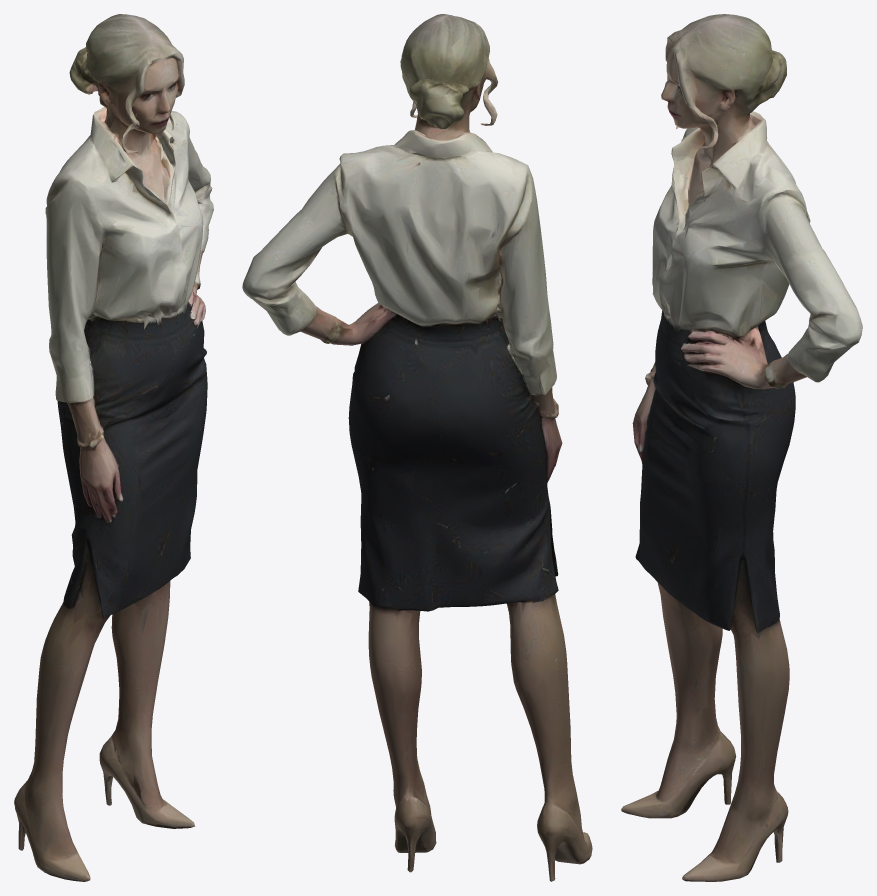
The model's file is female_ivory.glb.
3 renders of one model, left to right at view 1: azimuth 30°, elevation 25°; view 2: azimuth 150°, elevation 25°; view 3: azimuth 270°, elevation 25°, orthographic. The views are drawn at different scales.
Visible parts, largest first — view 1: female_ivory; view 2: female_ivory; view 3: female_ivory.
Boxes of the visible parts, box(x1,y1,x2,y2) form: female_ivory: box(14, 14, 213, 881); female_ivory: box(242, 14, 592, 881); female_ivory: box(621, 14, 862, 881).
Size of the model in its own units: 0.5534 by 1.7 by 0.4403.
1 material, 1 textured.
